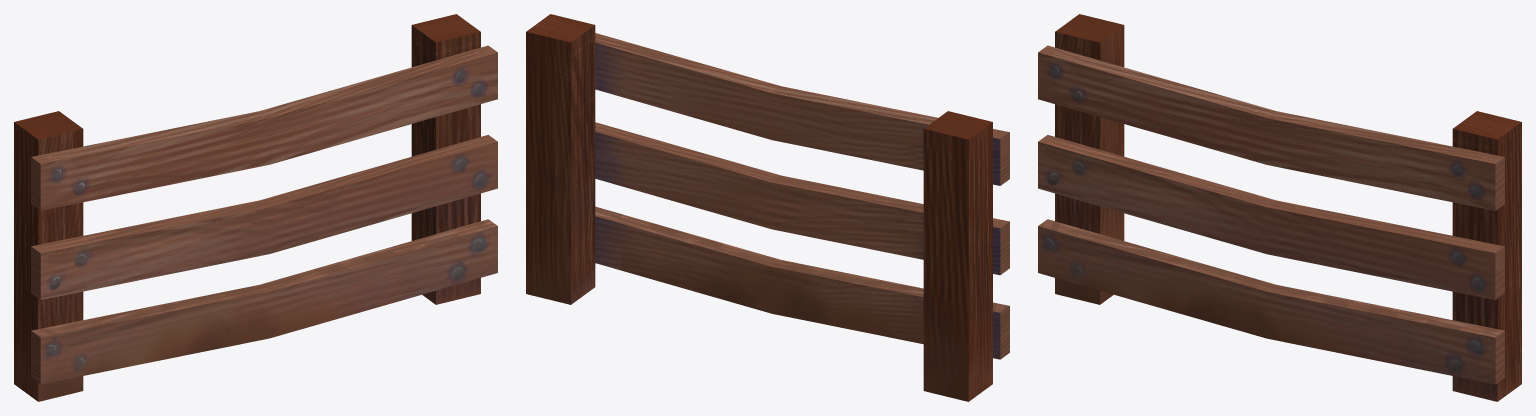
Rendered from Valla.fbx.
3 views of the same model, side by side, from view 1: azimuth 30°, elevation 25°; view 2: azimuth 150°, elevation 25°; view 3: azimuth 330°, elevation 25° (orthographic).
Visible parts, largest first — view 1: Cube.003; view 2: Cube.003; view 3: Cube.003.
Boxes of the visible parts, <box> form: Cube.003: <box>14,14,497,401</box>; Cube.003: <box>526,14,1009,401</box>; Cube.003: <box>1038,14,1521,401</box>.
Bounding box in the file's own units: 580 × 318 × 74.41.
Materials: 1 (1 with a texture image).
